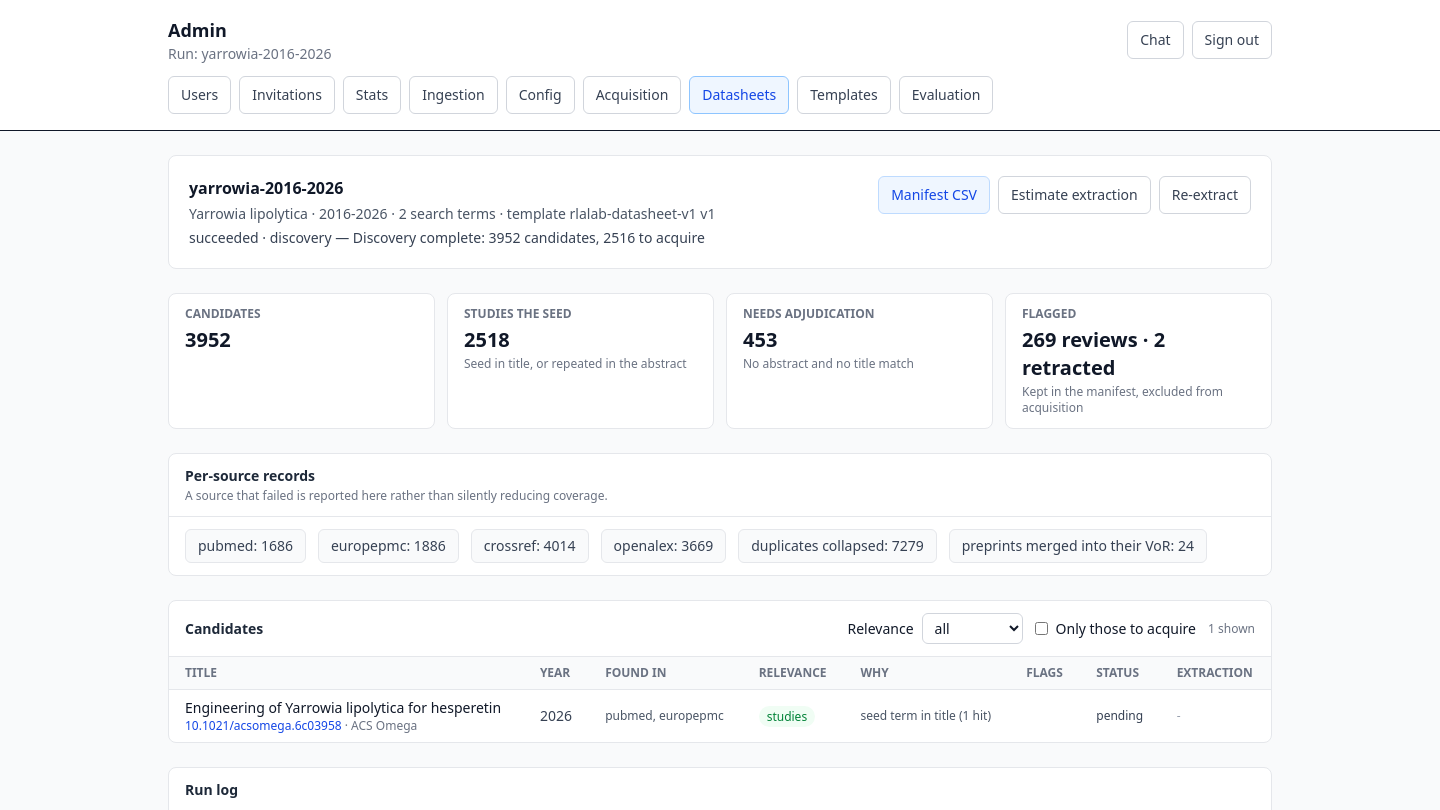
Test case: AdminDatasheetRunClient › says which papers the cache covers so a cheap projection is legible
Click the button "Estimate extraction".
click(1074, 195)  # box [998,176,1151,214]
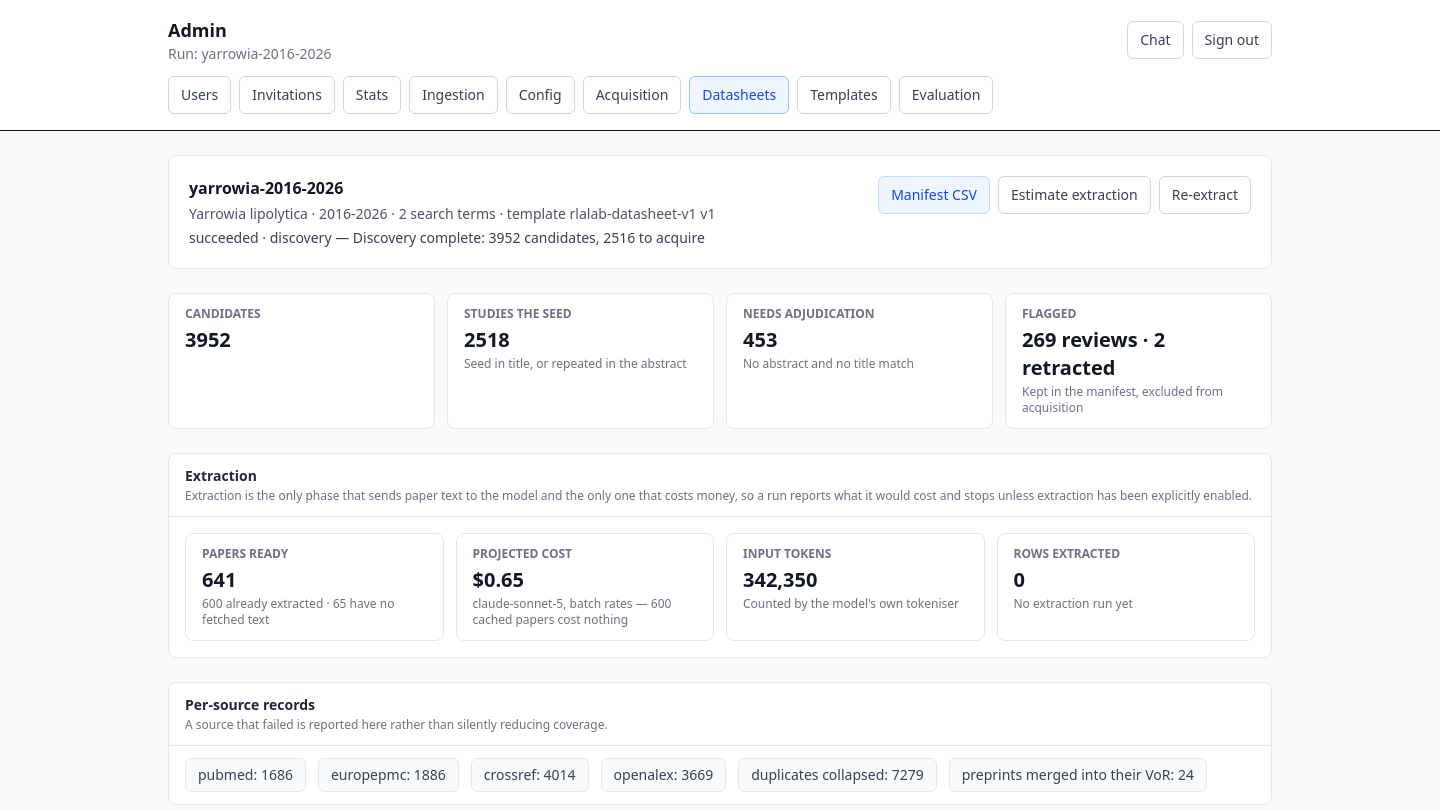
Result: the text "$0.65" is shown at [472,566,524,593]
Result: the text "600 cached papers cost nothing" is shown at [472,595,671,628]
